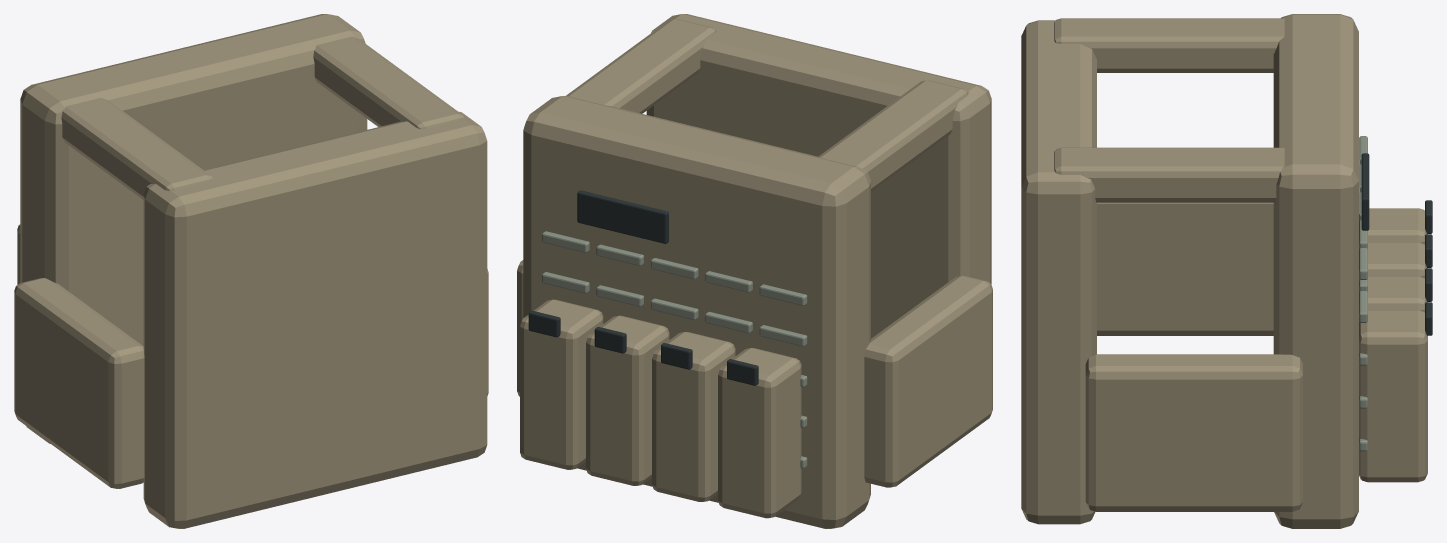
File: armored_rig_operator.glb
3 views of the same model, side by side, from view 1: azimuth 30°, elevation 25°; view 2: azimuth 150°, elevation 25°; view 3: azimuth 270°, elevation 25° (orthographic). The views are drawn at different scales.
Visible parts, largest first — view 1: armored_rig_operator; view 2: armored_rig_operator; view 3: armored_rig_operator.
Part boxes in pixels (x1,y1,x2,y2): armored_rig_operator: (14,14,488,528); armored_rig_operator: (517,14,992,528); armored_rig_operator: (1021,14,1432,528).
Bounding box in the file's own units: 0.49 × 0.425 × 0.435.
